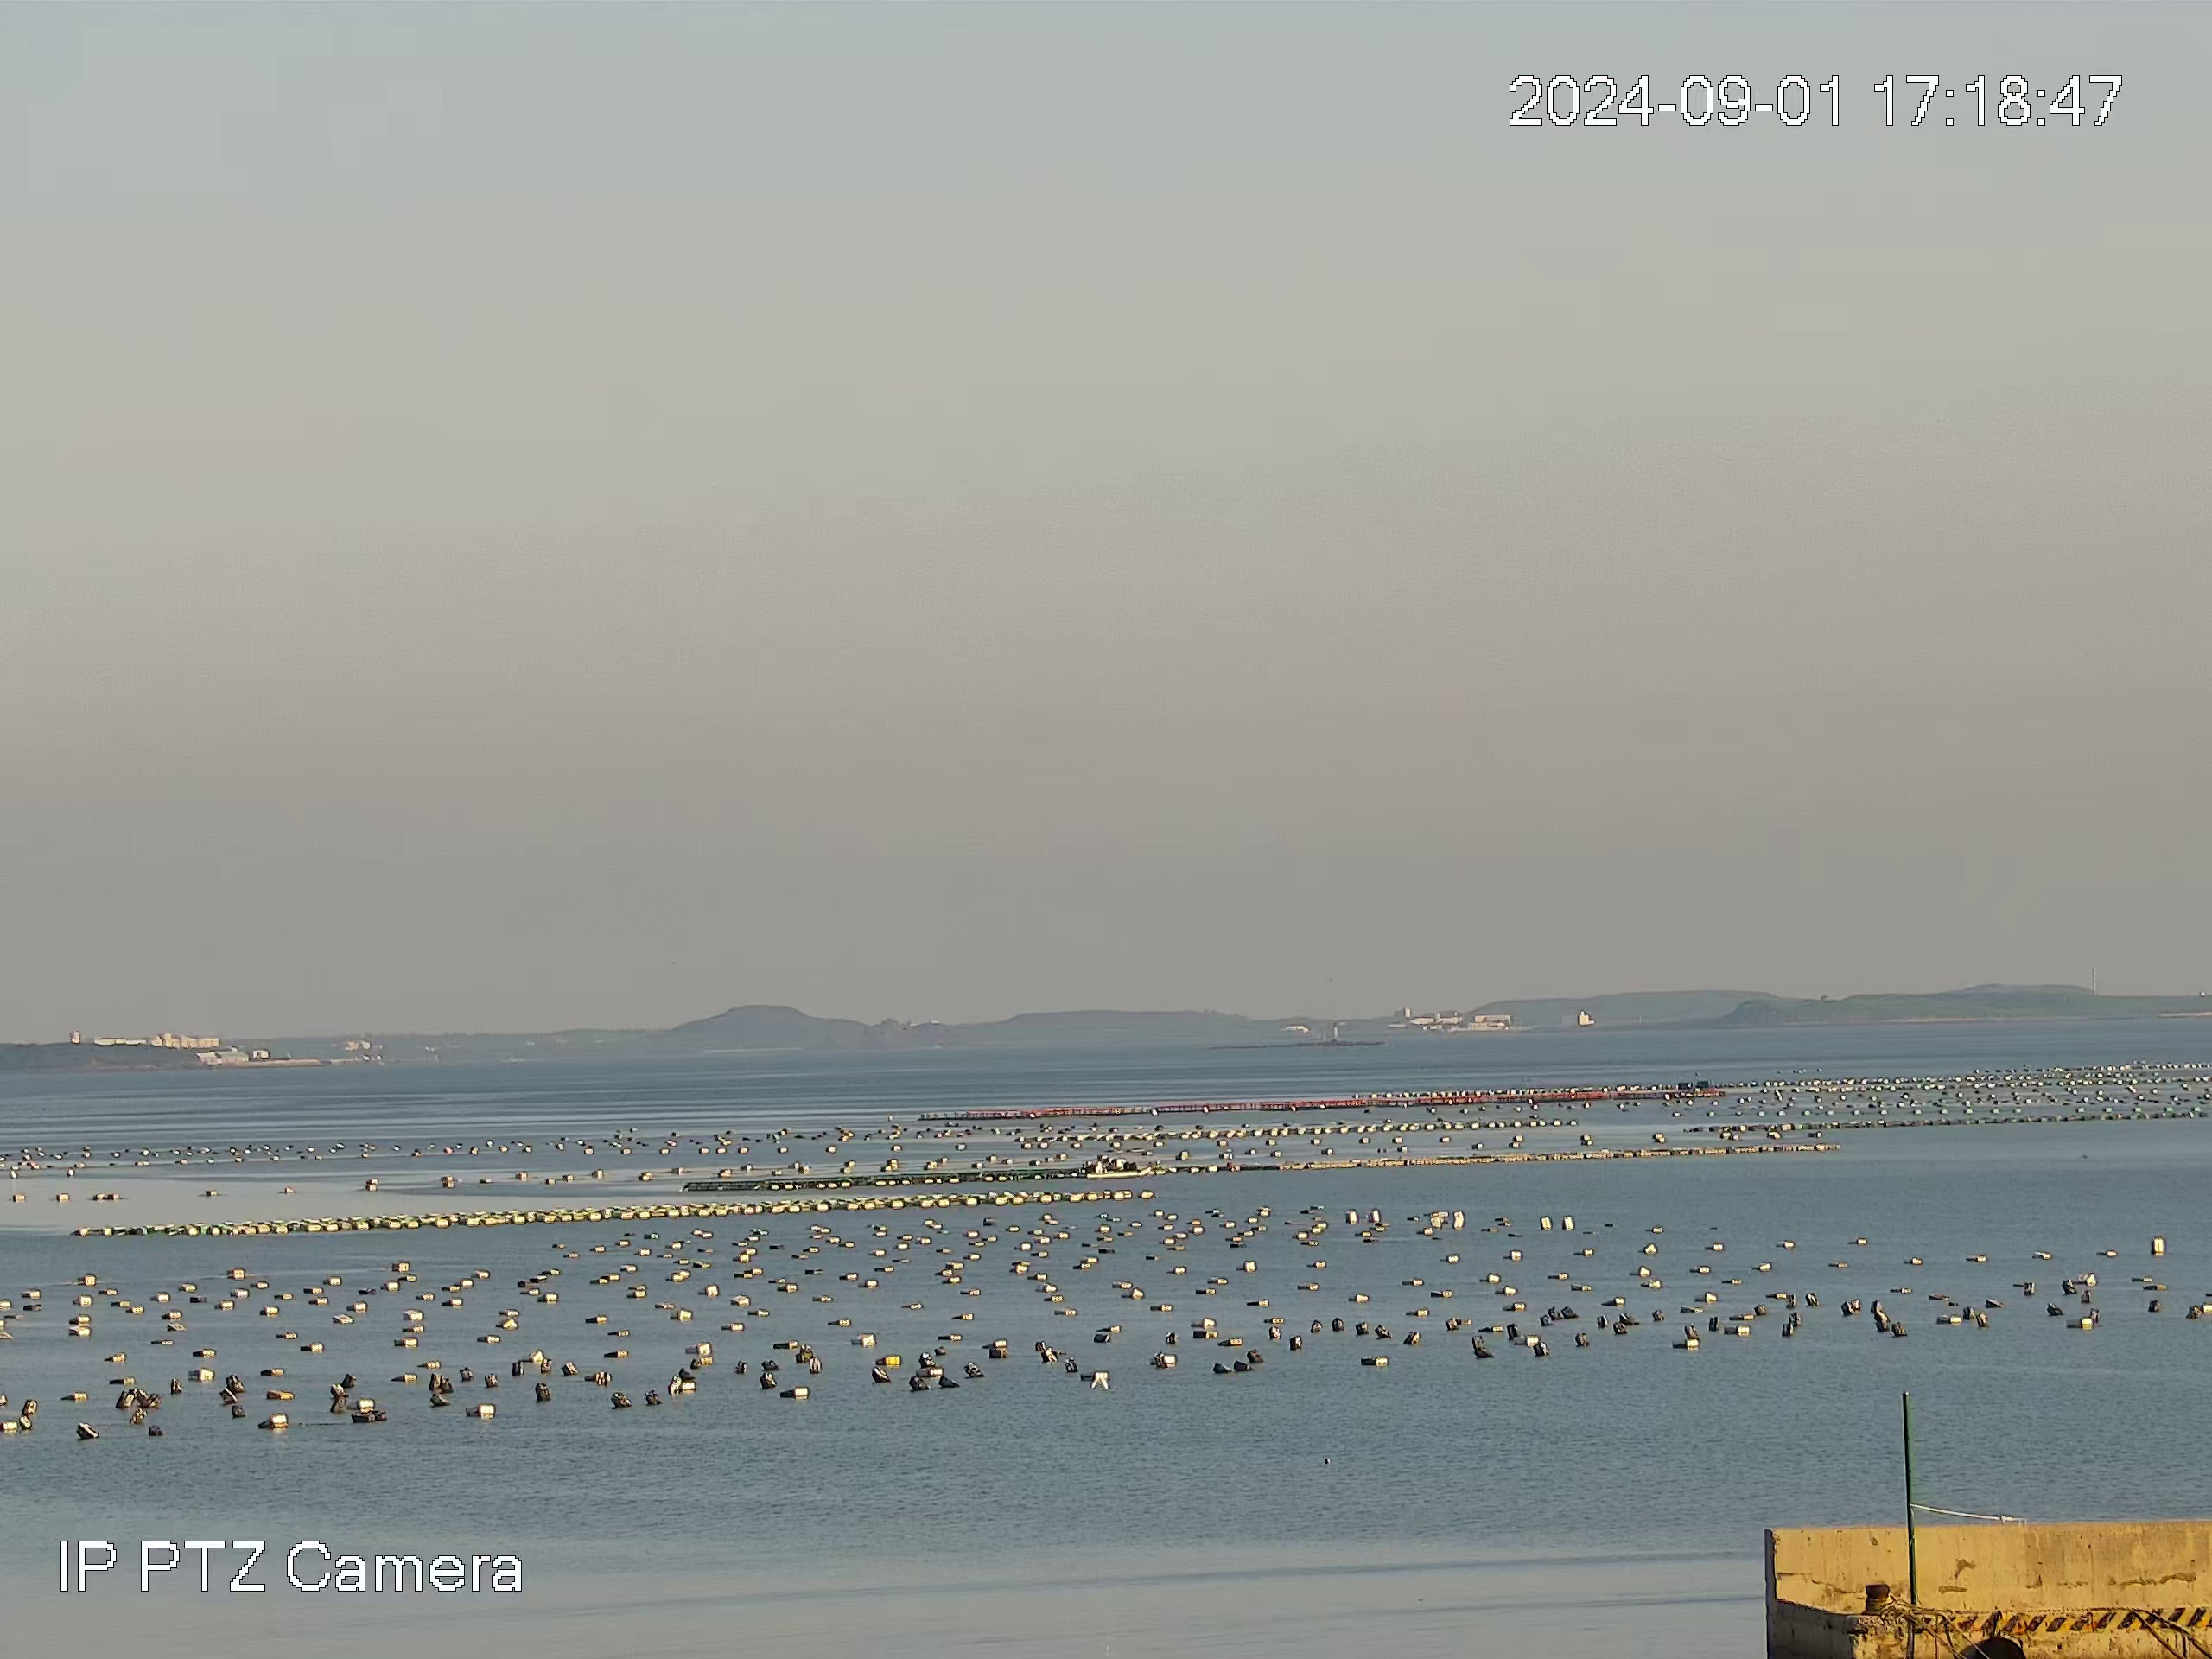boat: (1085, 1154, 1151, 1180)
